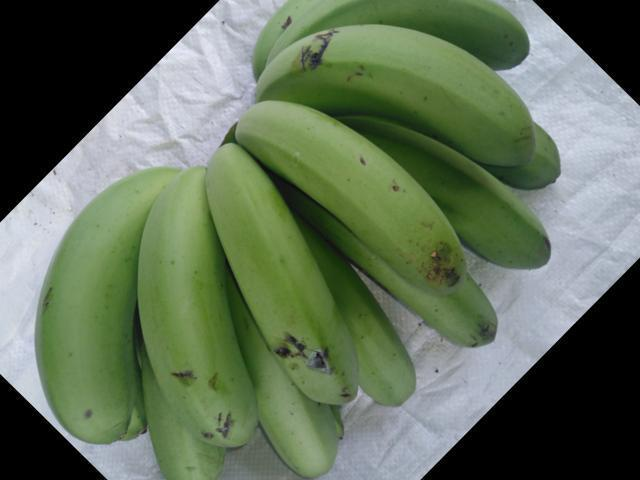unripe: (234, 10, 547, 151), (243, 96, 467, 287), (197, 137, 361, 396), (128, 163, 262, 449), (21, 151, 139, 447), (450, 159, 565, 274)
